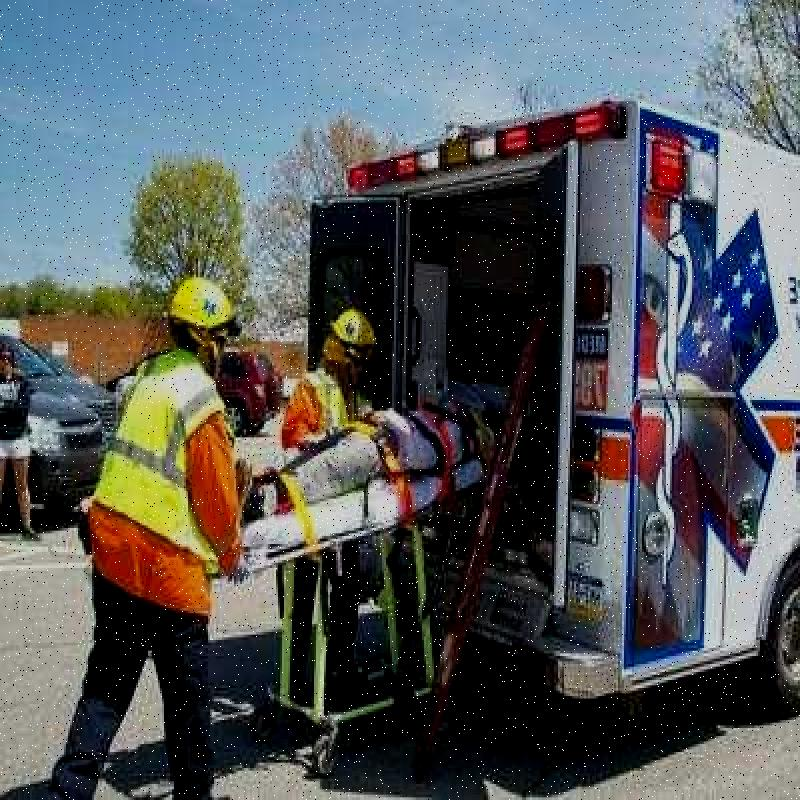AmbulanceSiren: (316, 91, 648, 205)
